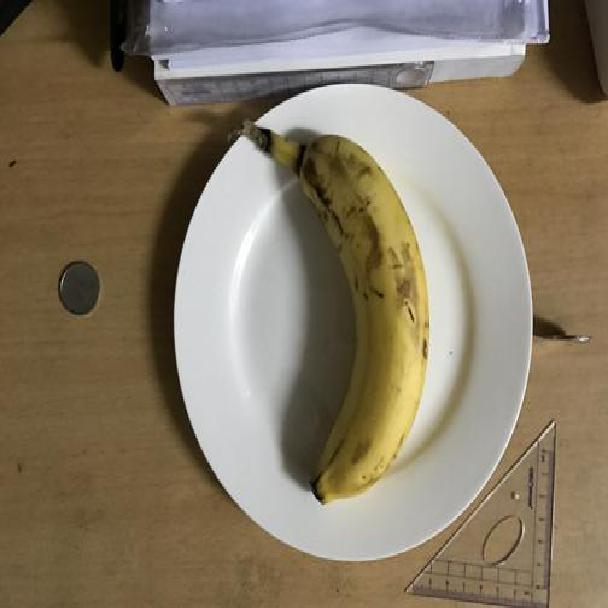banana: (246, 127, 439, 508)
